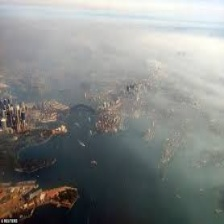smoke: (16, 16, 187, 94)
